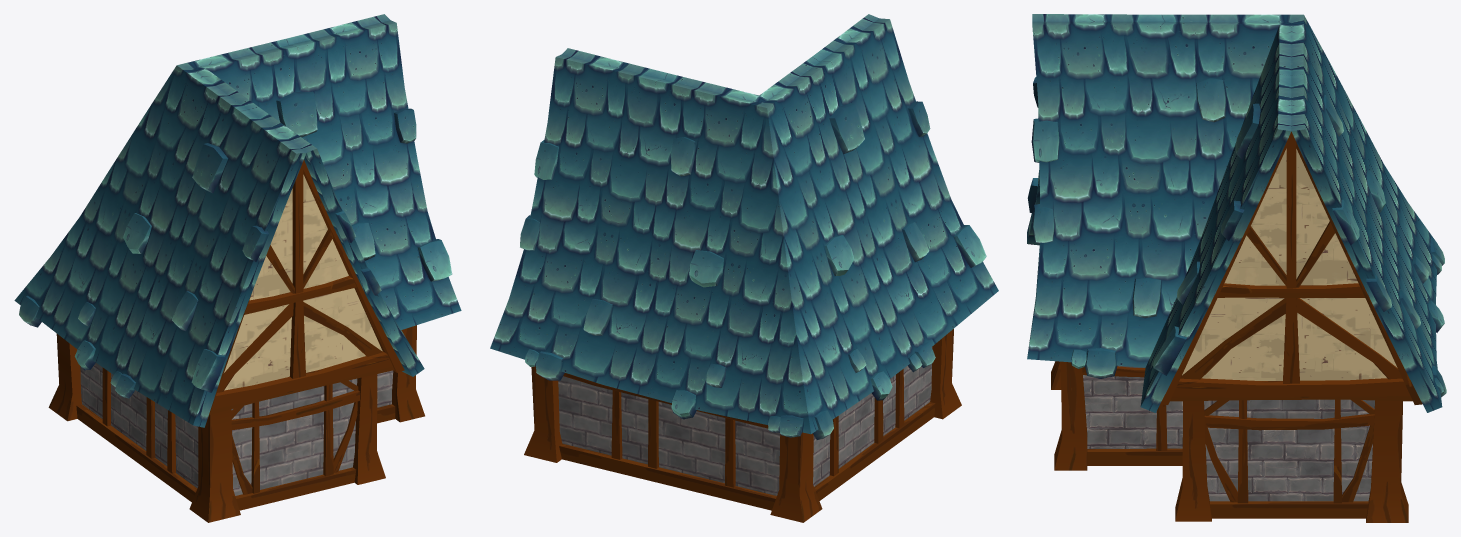
Rendered from SM_BLD_body_v06_01.glb.
3 renders of one model, left to right at view 1: azimuth 30°, elevation 25°; view 2: azimuth 150°, elevation 25°; view 3: azimuth 270°, elevation 25°, orthographic. The views are drawn at different scales.
Parts seen in each view (by area): view 1: SM_BLD_body_v06_01_EXPORT; view 2: SM_BLD_body_v06_01_EXPORT; view 3: SM_BLD_body_v06_01_EXPORT.
Part boxes in pixels (x1=…): SM_BLD_body_v06_01_EXPORT: x1=14, y1=14, x2=461, y2=522; SM_BLD_body_v06_01_EXPORT: x1=490, y1=14, x2=998, y2=522; SM_BLD_body_v06_01_EXPORT: x1=1027, y1=14, x2=1446, y2=522.
Size of the model in its own units: 10.24 by 10.78 by 10.21.
Materials: 4 (4 with a texture image).
